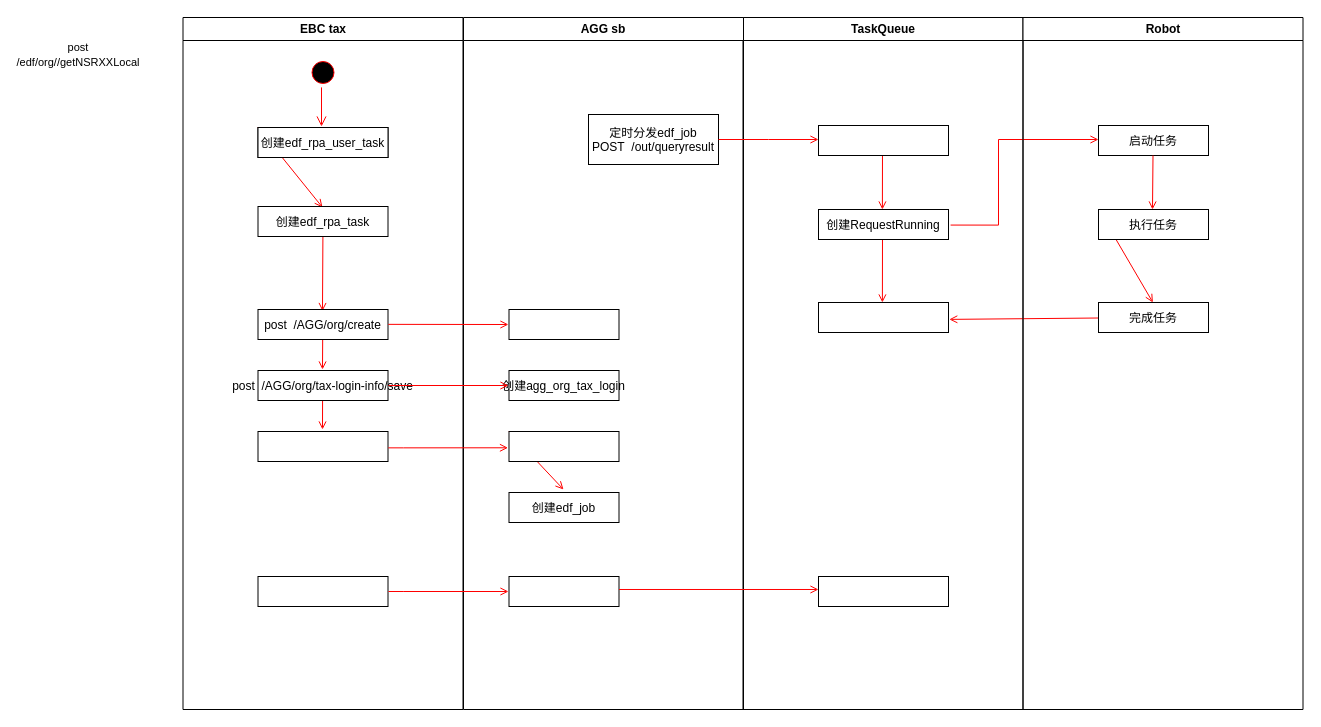
Some shapes in this 1321 by 727 pixel diagram are drawn without their labels. Here are the shapes that lost their labels. From the top down, the centre of each, then its label:
At point (883, 140): "创建RequestRunner".
At point (563, 324): "创建agg_org".
At point (883, 317): "创建RequestRunned".
At point (322, 446): "post /SBRelation/qyxx".
At point (563, 446): "创建edf_job_history".
At point (322, 591): "定时刷任务状态 post /SBRelation/result".
At point (563, 591): "POST /out/queryresult".
At point (883, 591): "查询任务状态".
